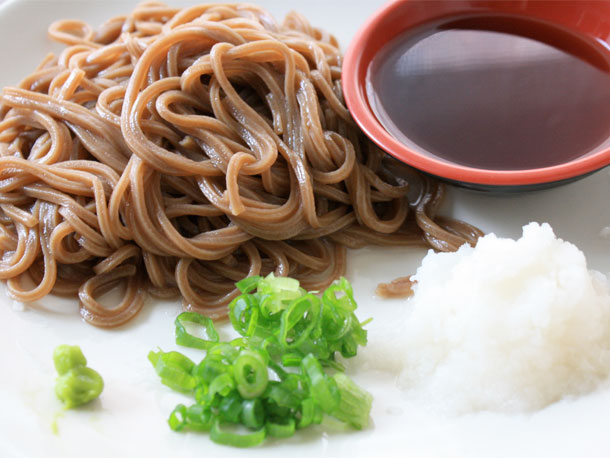Soba: (15, 22, 468, 301)
